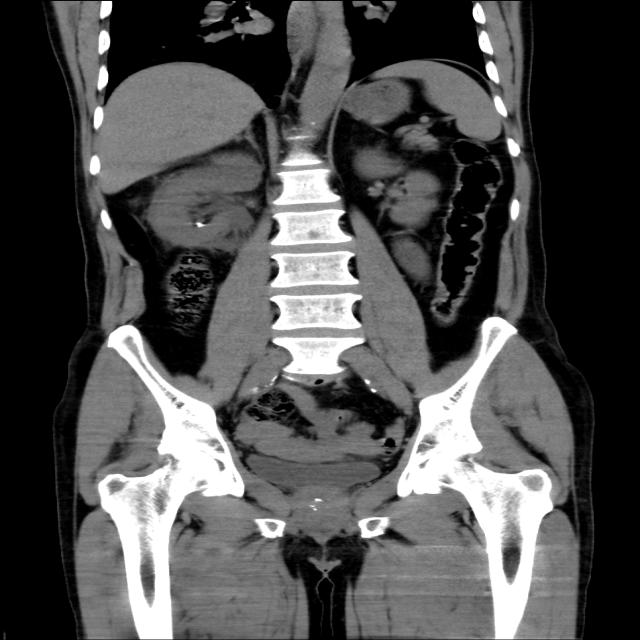kidneystone: (190, 220, 208, 227)
